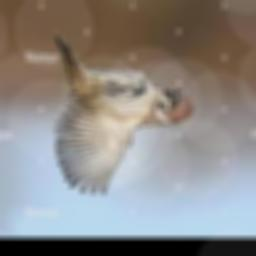Sparrow: (55, 28, 195, 194)
